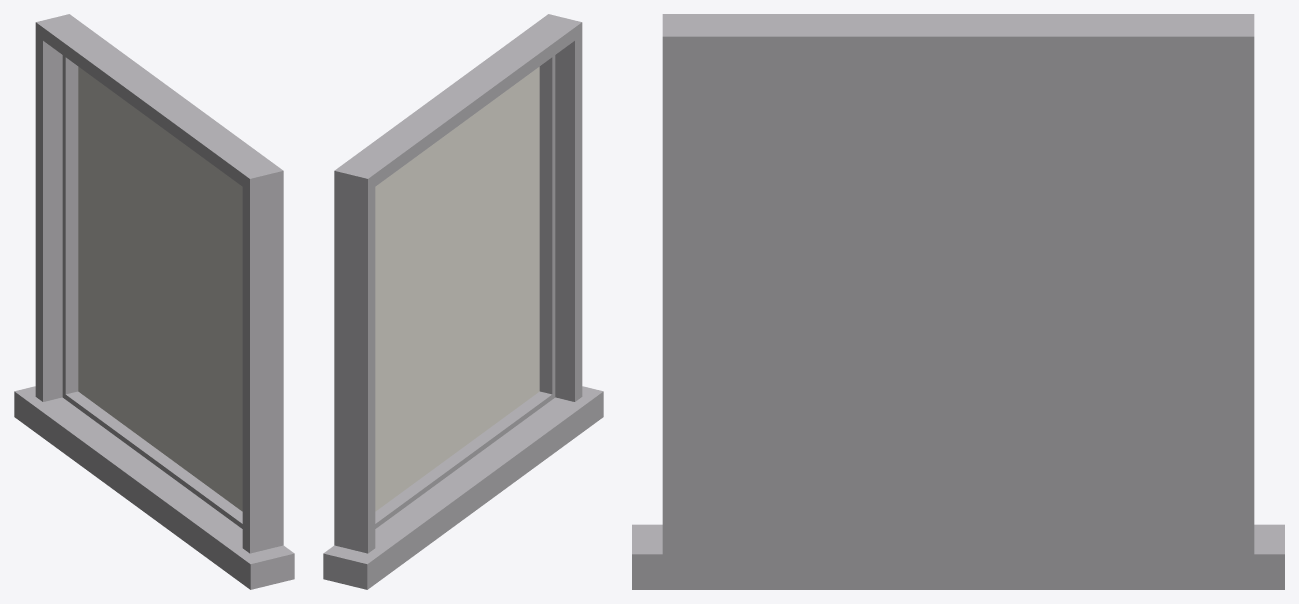
File: DoctorsWindow.fbx
3 views of the same model, side by side, from view 1: azimuth 30°, elevation 25°; view 2: azimuth 150°, elevation 25°; view 3: azimuth 270°, elevation 25° (orthographic). The views are drawn at different scales.
Parts seen in each view (by area): view 1: Cube; view 2: Cube; view 3: Cube.
Boxes of the visible parts, box(x1,y1,x2,y2) form: Cube: box(14, 14, 294, 589); Cube: box(323, 14, 603, 589); Cube: box(632, 14, 1284, 589).
Bounding box in the file's own units: 15.81 × 137 × 147.
